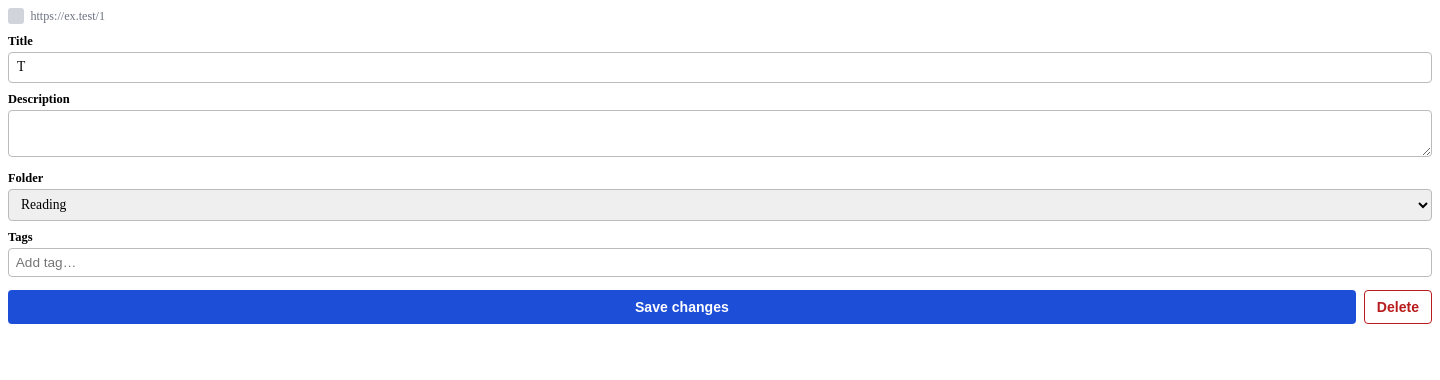
Test case: BookmarkForm — inline "new folder" › a 422 (depth limit) shows inline and keeps the editor open
Select "＋ New folder…" in the dropdown at point(720, 205), box [8, 189, 1432, 221]
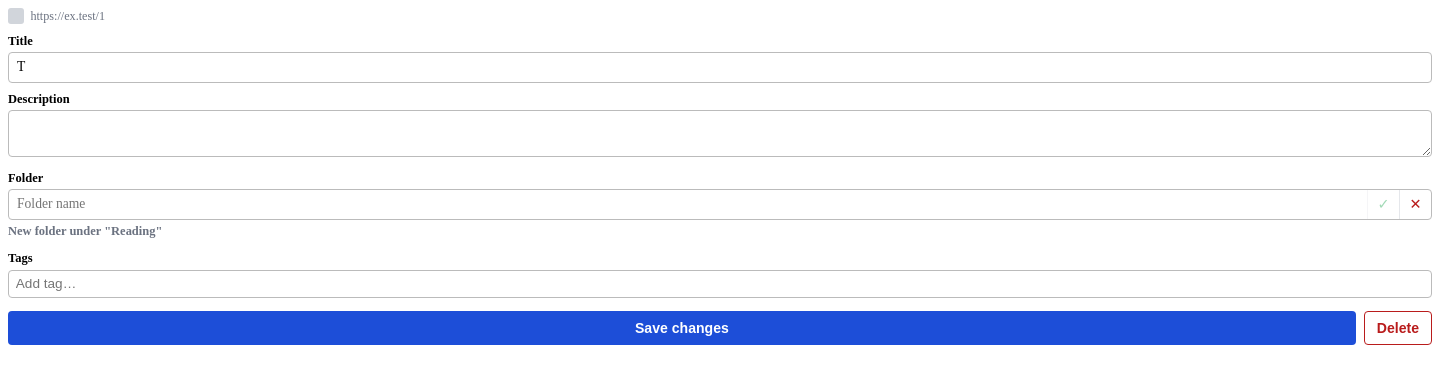
Type "Deep" into the field with class "folder-new-input".
click(688, 204); type("Deep")  # box [9, 190, 1367, 219]
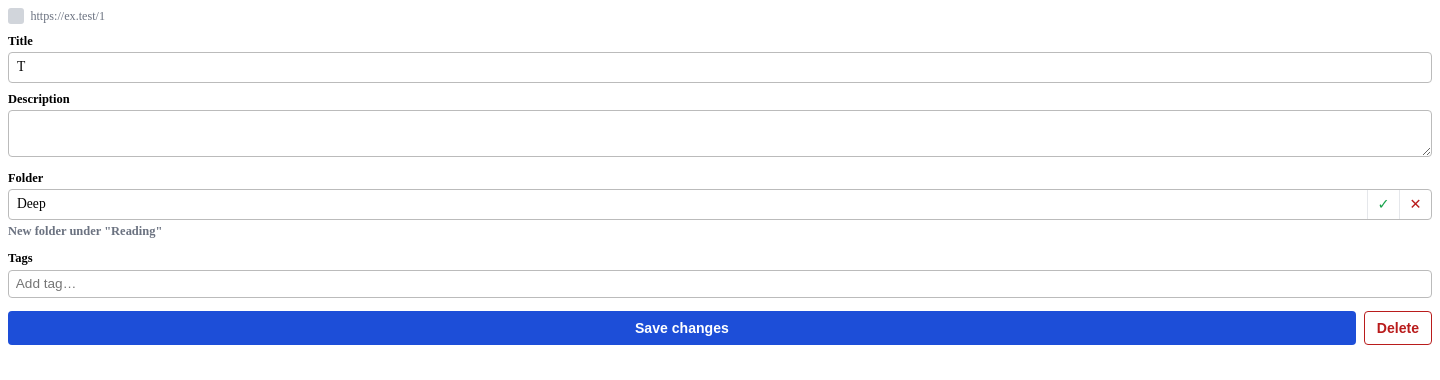
Click the button with class "fn-ok".
click(1383, 204)  # box [1367, 190, 1399, 219]
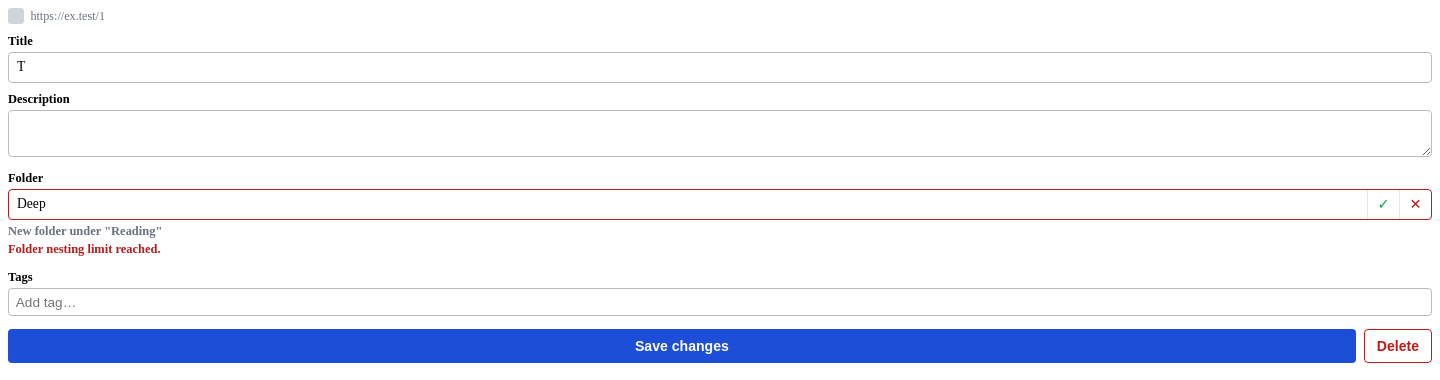
Expected: the element with class "folder-new" is shown, [8, 189, 1432, 220]
Expected: the text with class "field-error" reads "Folder nesting limit reached.", [8, 242, 161, 256]
